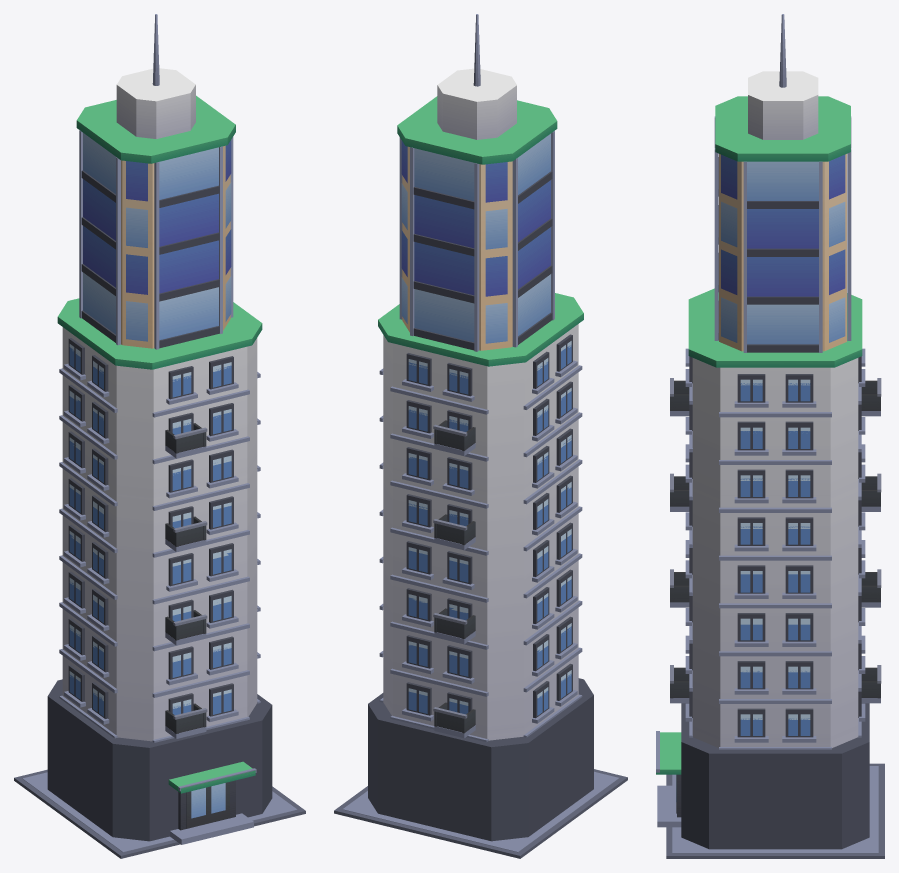
File: res_sky_condo_1x1.glb
3 views of the same model, side by side, from view 1: azimuth 30°, elevation 25°; view 2: azimuth 150°, elevation 25°; view 3: azimuth 270°, elevation 25° (orthographic). The views are drawn at different scales.
Visible parts, largest first — view 1: res_sky_condo_1x1; view 2: res_sky_condo_1x1; view 3: res_sky_condo_1x1.
Part boxes in pixels (x1,y1,x2,y2): res_sky_condo_1x1: (14, 14, 305, 858); res_sky_condo_1x1: (334, 14, 627, 858); res_sky_condo_1x1: (656, 14, 884, 858).
Size of the model in its own units: 1.7 by 6.86 by 1.78.
1 material, 1 textured.
